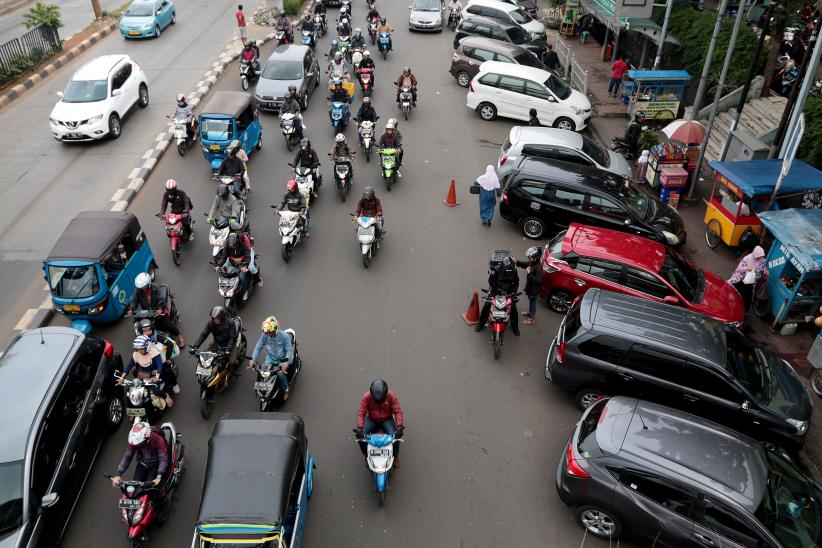car: (548, 289, 809, 460), (557, 397, 817, 548), (1, 327, 127, 548), (540, 219, 746, 329), (500, 162, 687, 251), (197, 413, 314, 548), (48, 213, 154, 338), (497, 124, 632, 195), (468, 60, 593, 136), (53, 55, 150, 145), (199, 89, 266, 178), (451, 35, 554, 91), (450, 15, 545, 68), (254, 43, 321, 118), (455, 1, 545, 44), (117, 1, 175, 39), (407, 1, 445, 36)
motorbike: (115, 417, 185, 543), (352, 381, 409, 507), (191, 305, 248, 420), (121, 324, 181, 423), (248, 318, 304, 407), (129, 277, 185, 363), (212, 229, 261, 315), (486, 249, 521, 362), (208, 186, 250, 268), (276, 179, 311, 266), (160, 178, 195, 264), (215, 140, 252, 206), (616, 112, 655, 169), (356, 187, 382, 266), (293, 140, 322, 205), (278, 85, 305, 153), (380, 121, 405, 193), (172, 93, 199, 155), (332, 132, 354, 202), (356, 96, 377, 167), (328, 50, 353, 102), (396, 68, 417, 123), (328, 80, 349, 135), (239, 40, 262, 89), (357, 51, 377, 99), (272, 11, 294, 52), (351, 28, 366, 75), (336, 18, 352, 61), (299, 15, 317, 50), (377, 17, 391, 60), (366, 5, 381, 45), (313, 1, 329, 37)
